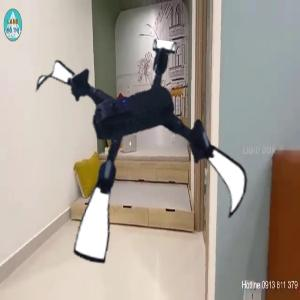drone: (23, 39, 255, 271)
